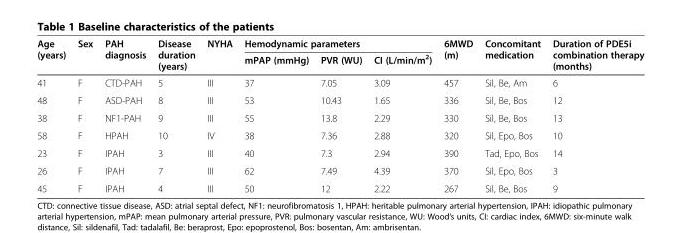table: (36, 37, 643, 193)
table column: (545, 37, 643, 193), (237, 37, 314, 193), (367, 37, 437, 193), (478, 37, 545, 193), (98, 37, 151, 193), (314, 37, 367, 193), (151, 37, 200, 193), (437, 37, 478, 193), (200, 37, 237, 193), (36, 37, 71, 193), (71, 37, 98, 193)
table column header: (36, 37, 643, 74)
table row: (36, 50, 643, 74), (36, 108, 643, 126), (36, 126, 643, 144), (36, 161, 643, 179), (36, 74, 643, 91), (36, 91, 643, 108), (36, 144, 643, 161), (36, 179, 643, 193), (36, 37, 643, 50)
table spanning cell: (545, 37, 643, 74), (237, 37, 437, 50), (478, 37, 545, 74), (98, 37, 151, 74), (151, 37, 200, 74), (437, 37, 478, 74), (200, 37, 237, 74), (36, 37, 71, 74), (71, 37, 98, 74)
